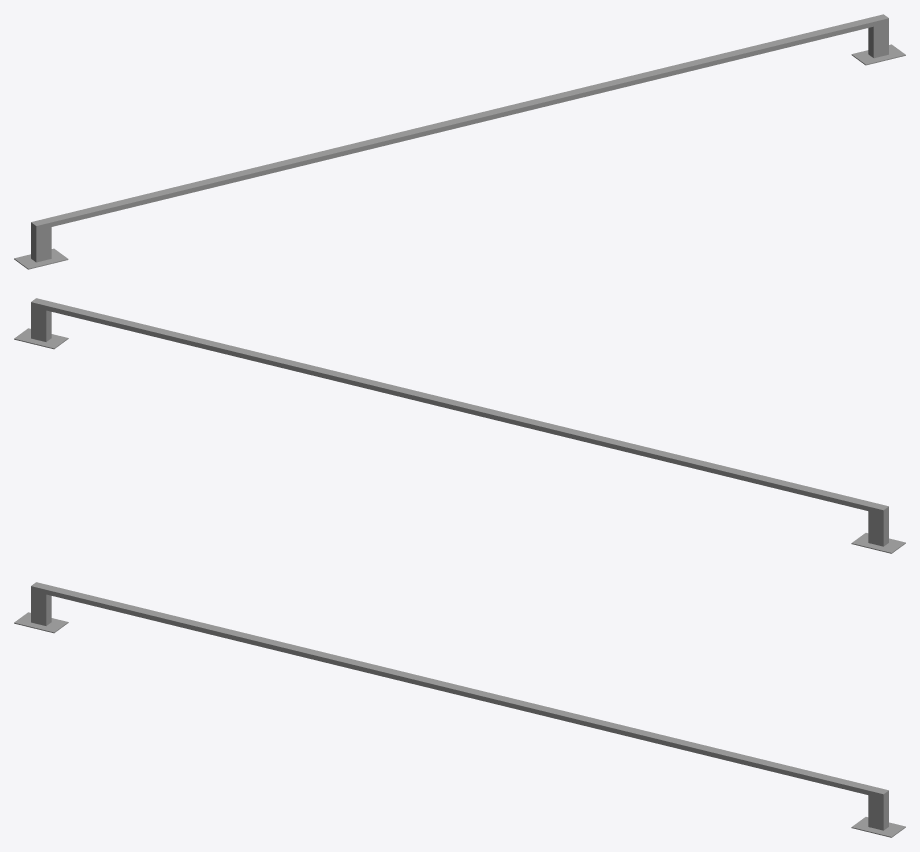
The model's file is DrawermeshCoffeeTableDrawer_203_4_4_GeomSubset_0.obj.
3 renders of one model, top to bottom at view 1: azimuth 30°, elevation 25°; view 2: azimuth 150°, elevation 25°; view 3: azimuth 330°, elevation 25°, orthographic.
Visible parts, largest first — view 1: DrawermeshCoffeeTableDrawer_203_4_4_GeomSubset_0; view 2: DrawermeshCoffeeTableDrawer_203_4_4_GeomSubset_0; view 3: DrawermeshCoffeeTableDrawer_203_4_4_GeomSubset_0.
Part boxes in pixels (box(x1,y1,x2,y2)): DrawermeshCoffeeTableDrawer_203_4_4_GeomSubset_0: box(14, 14, 905, 269); DrawermeshCoffeeTableDrawer_203_4_4_GeomSubset_0: box(14, 298, 905, 553); DrawermeshCoffeeTableDrawer_203_4_4_GeomSubset_0: box(14, 582, 905, 837).
Size of the model in its own units: 0.8008 by 0.0325 by 0.0228.
